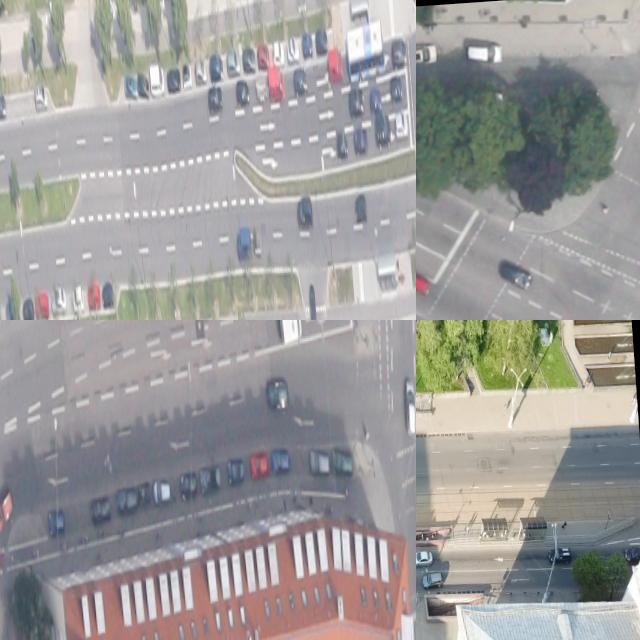UAI: (499, 258, 535, 293), (465, 42, 503, 65), (199, 463, 222, 495), (115, 486, 138, 518), (0, 486, 15, 533), (404, 378, 416, 436), (266, 379, 289, 409), (90, 493, 111, 525), (331, 448, 353, 478), (374, 112, 391, 150), (416, 260, 433, 298), (226, 455, 245, 487), (268, 67, 285, 102), (328, 48, 344, 84), (180, 469, 198, 501), (309, 449, 330, 476), (296, 196, 313, 229), (149, 61, 165, 96), (152, 477, 171, 505), (236, 226, 252, 259), (207, 83, 224, 114), (271, 447, 290, 474), (250, 452, 269, 479), (208, 52, 224, 84), (48, 508, 65, 538), (416, 42, 438, 65), (391, 37, 407, 68), (353, 124, 369, 155), (394, 109, 409, 142), (348, 88, 365, 117), (226, 47, 241, 78), (51, 285, 67, 314), (548, 545, 572, 564), (293, 67, 308, 96), (390, 74, 404, 105), (34, 81, 48, 112), (35, 291, 50, 319), (235, 78, 249, 107), (272, 37, 285, 68), (421, 571, 443, 589), (242, 46, 256, 74), (257, 42, 270, 71), (354, 194, 367, 223), (370, 87, 383, 115), (336, 131, 349, 159), (102, 280, 115, 308), (88, 281, 101, 309), (124, 73, 138, 99), (286, 35, 299, 63), (315, 27, 328, 55), (138, 482, 152, 508), (167, 68, 181, 93), (137, 71, 149, 100), (301, 30, 313, 59), (308, 282, 317, 320), (21, 294, 34, 320), (194, 59, 207, 85), (72, 284, 84, 312), (256, 76, 268, 102), (623, 546, 640, 563), (416, 549, 432, 567), (252, 229, 262, 257), (182, 62, 192, 89), (0, 91, 7, 120)
car: (345, 16, 386, 81)
harvester: (279, 320, 304, 344)
